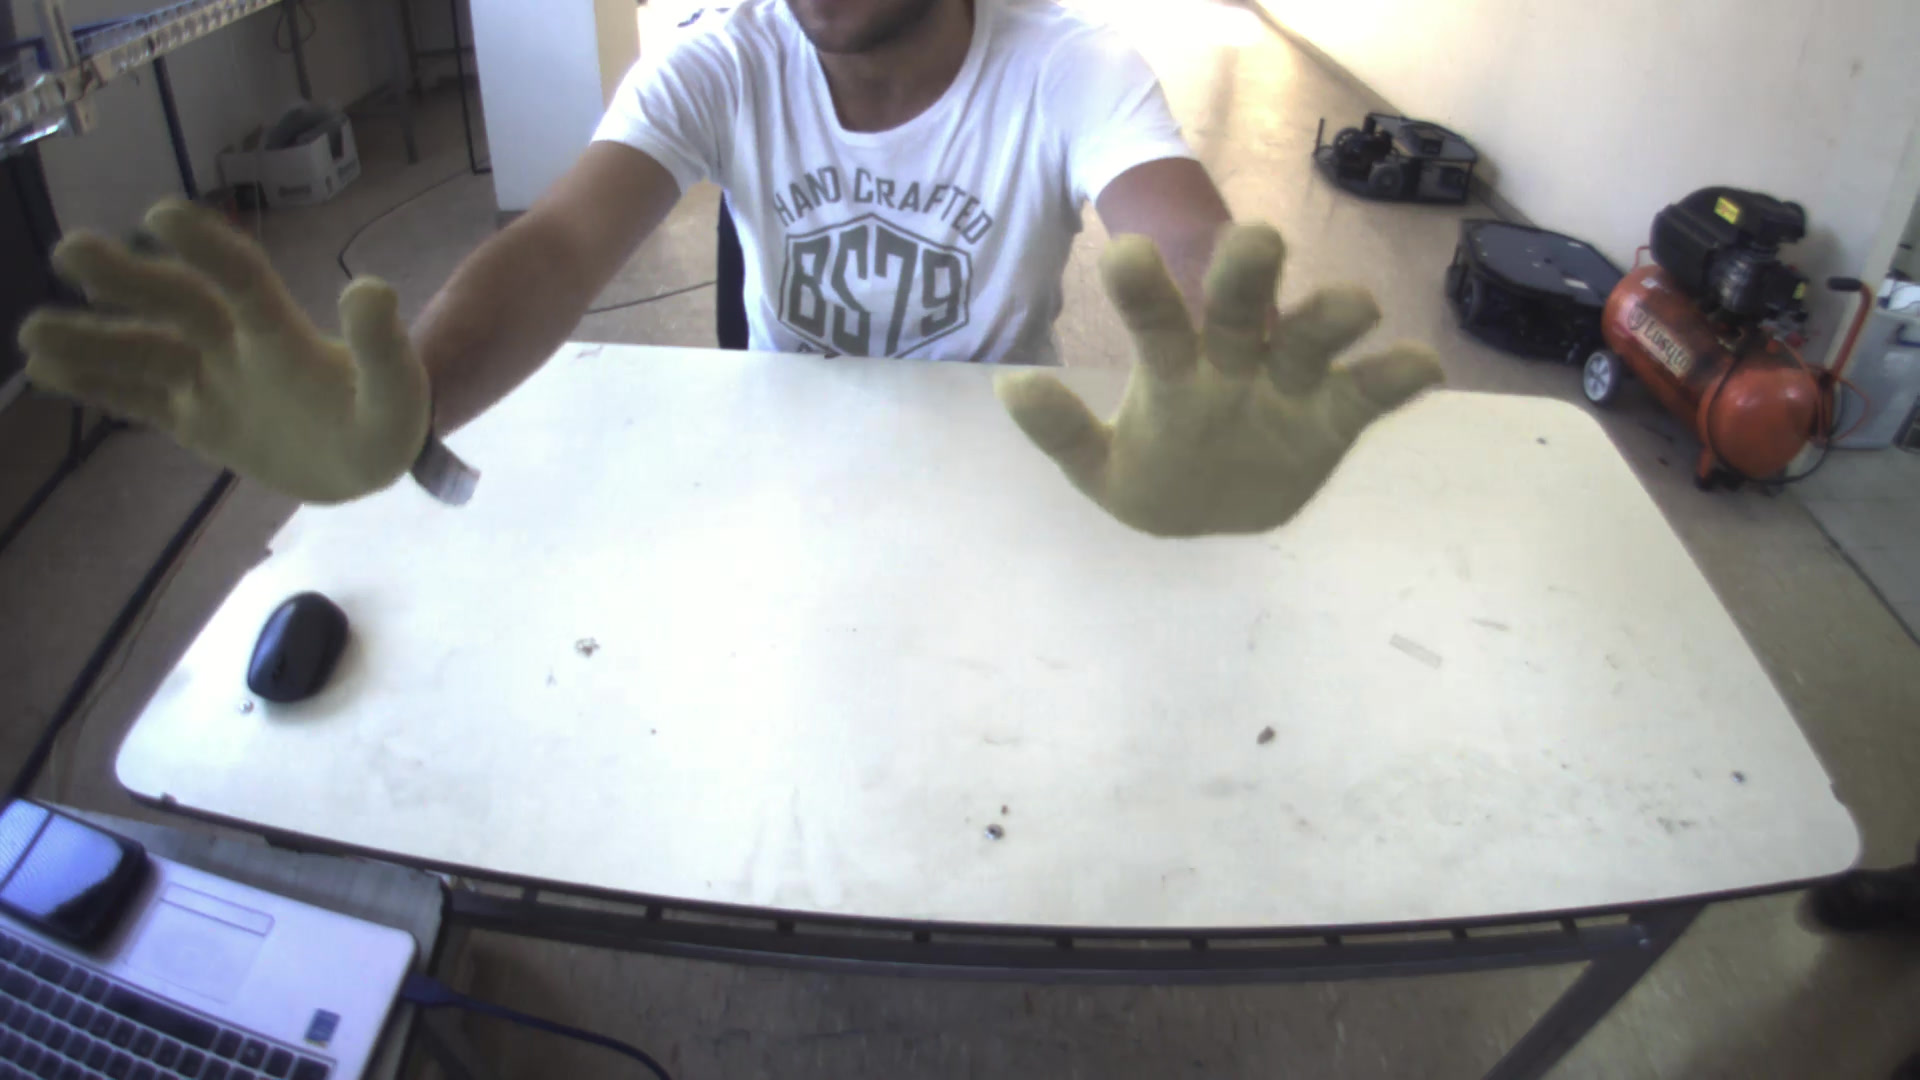hand: (975, 211, 1455, 550), (17, 182, 430, 502)
